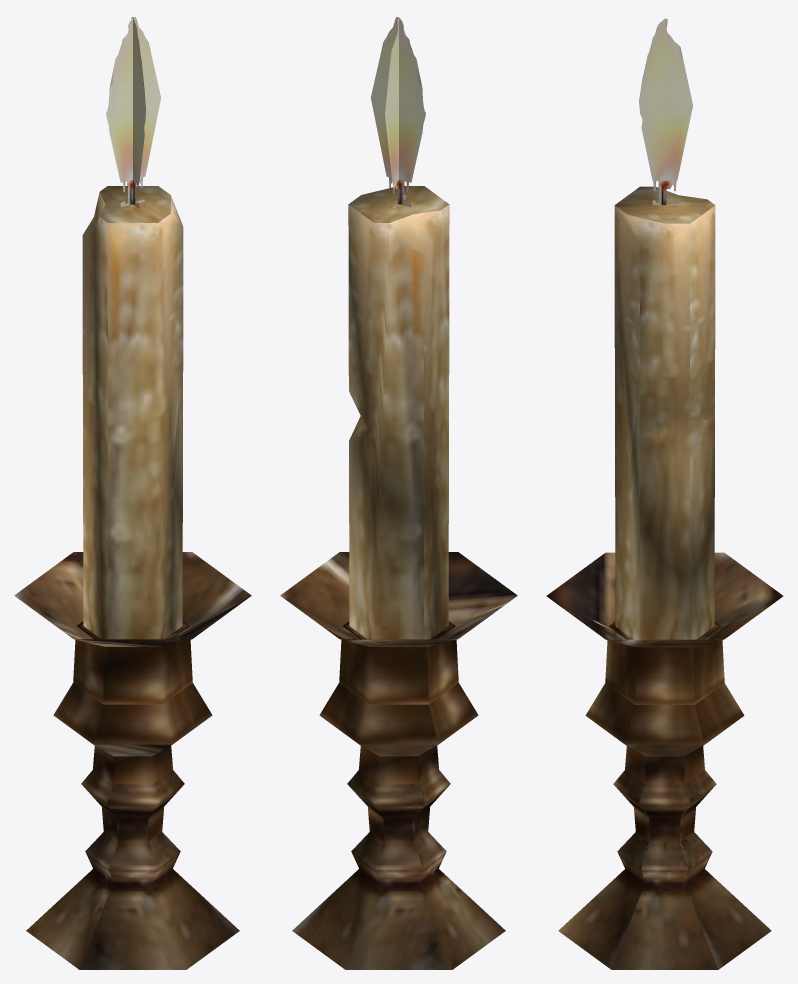
Rendered from PSX Candle.fbx.
3 views of the same model, side by side, from view 1: azimuth 30°, elevation 25°; view 2: azimuth 150°, elevation 25°; view 3: azimuth 270°, elevation 25° (orthographic).
Parts seen in each view (by area): view 1: PSX Candle; view 2: PSX Candle; view 3: PSX Candle.
Part boxes in pixels (x1,y1,x2,y2): PSX Candle: (14, 17, 251, 969); PSX Candle: (280, 17, 517, 969); PSX Candle: (546, 18, 783, 969).
Bounding box in the file's own units: 31.42 × 154 × 36.29.
Materials: 1 (1 with a texture image).
